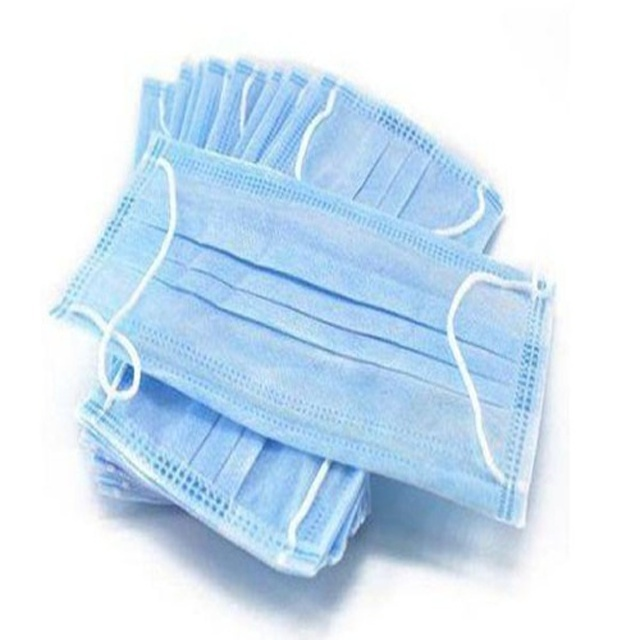mask: (43, 131, 559, 538)
